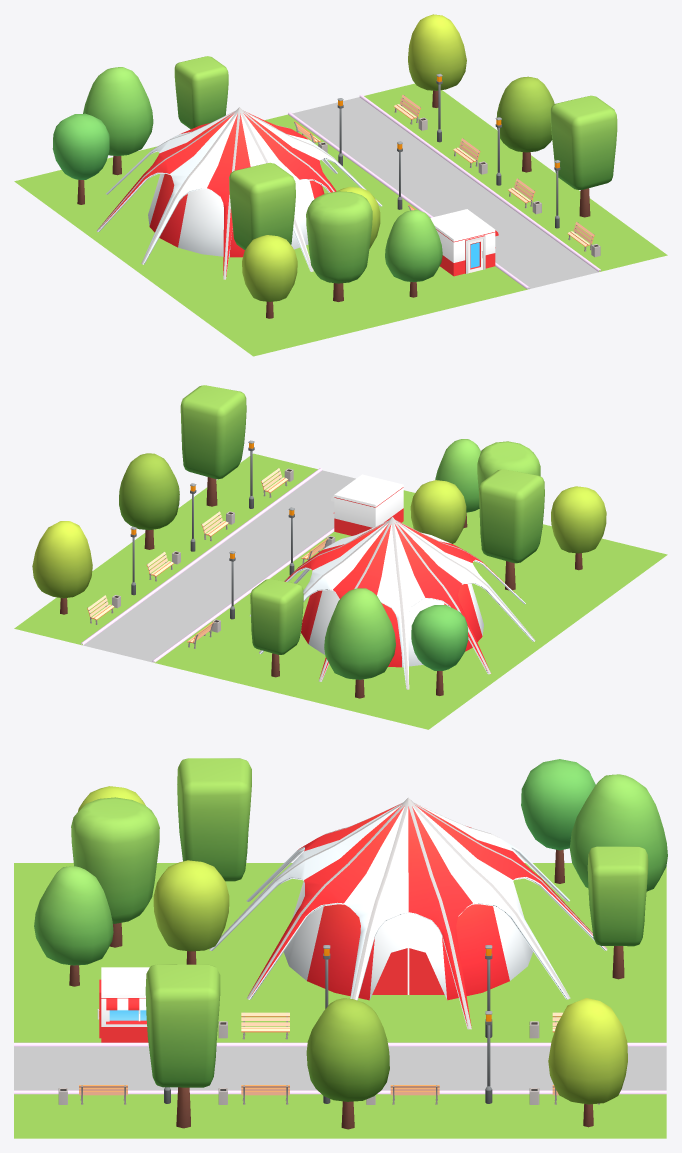
The model's file is Entertainment_Park_04.glb.
The picture shows the model from 3 angles, top to bottom: view 1: azimuth 30°, elevation 25°; view 2: azimuth 150°, elevation 25°; view 3: azimuth 270°, elevation 25°; orthographic projection. The views are drawn at different scales.
Visible parts, largest first — view 1: Entertainment_Park_04; view 2: Entertainment_Park_04; view 3: Entertainment_Park_04.
Boxes of the visible parts, x1,y1,x2,y2 form: Entertainment_Park_04: [14, 14, 667, 356]; Entertainment_Park_04: [14, 385, 667, 729]; Entertainment_Park_04: [14, 758, 667, 1138].
Size of the model in its own units: 30.55 by 7.94 by 30.05.
2 materials, 2 textured.
